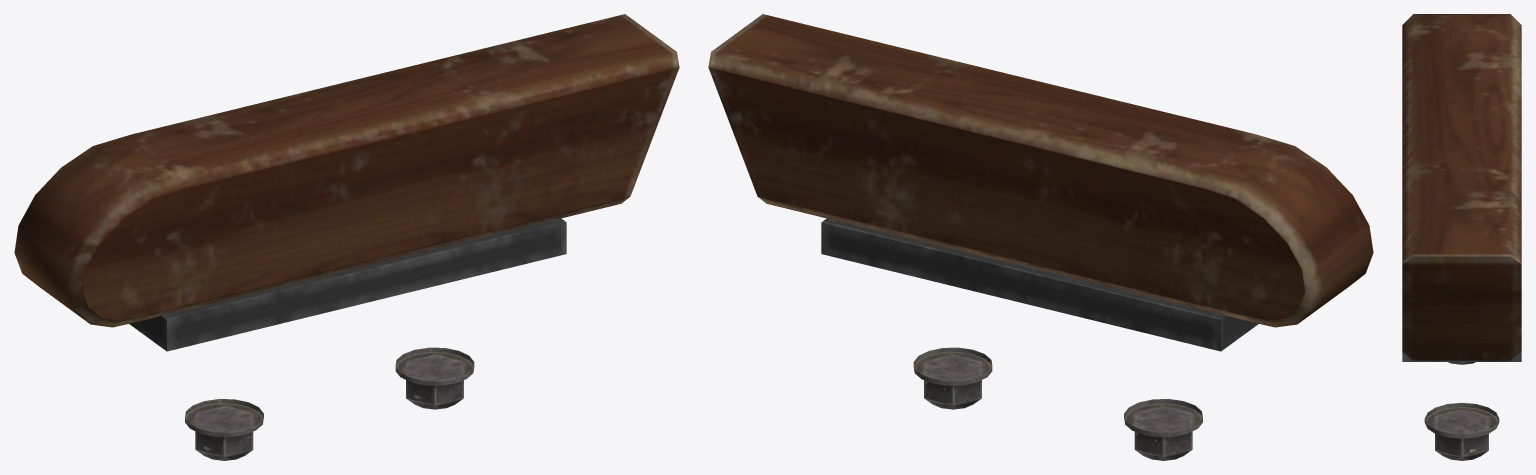
Rendered from ST_Stock_CheekPad_Vss.FBX.
3 views of the same model, side by side, from view 1: azimuth 30°, elevation 25°; view 2: azimuth 150°, elevation 25°; view 3: azimuth 270°, elevation 25° (orthographic). The views are drawn at different scales.
Parts seen in each view (by area): view 1: ST_Stock_CheekPad_Vss; view 2: ST_Stock_CheekPad_Vss; view 3: ST_Stock_CheekPad_Vss.
Boxes of the visible parts, x1,y1,x2,y2 form: ST_Stock_CheekPad_Vss: (14,14,679,460); ST_Stock_CheekPad_Vss: (708,14,1373,460); ST_Stock_CheekPad_Vss: (1402,14,1521,460).
Size of the model in its own units: 13.74 by 6.75 by 2.49.
Materials: 1 (1 with a texture image).
